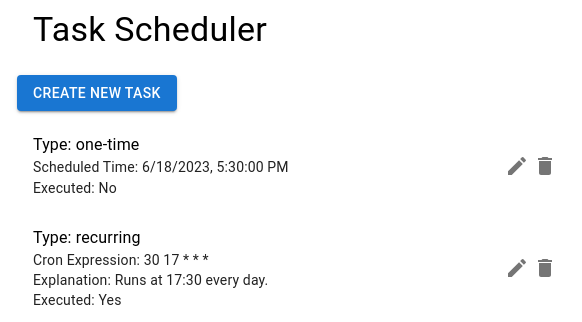
Test: TaskList Component › handles deleting a task
The width and height of the screenshot is (582, 322).
Click the button named "delete" in the row of "Type: one-time" at (545, 166), box [525,146,565,186]
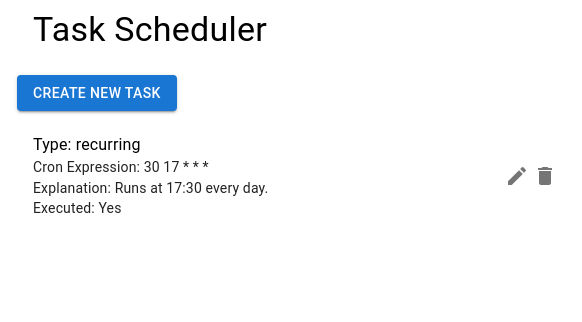
Check: the text "Type: one-time" is gone
